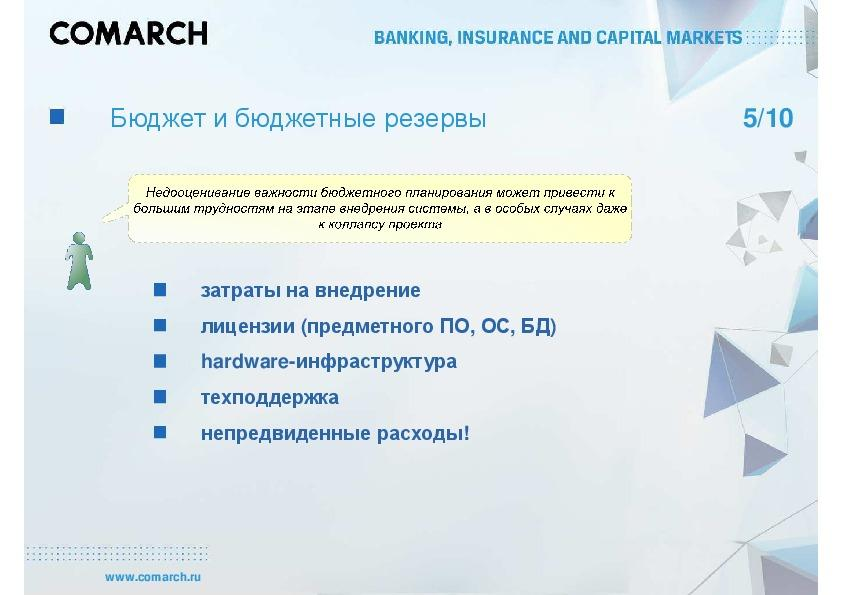paragraph: (52, 162, 683, 469)
subtitle: (36, 103, 514, 149)
title: (41, 3, 763, 67)
